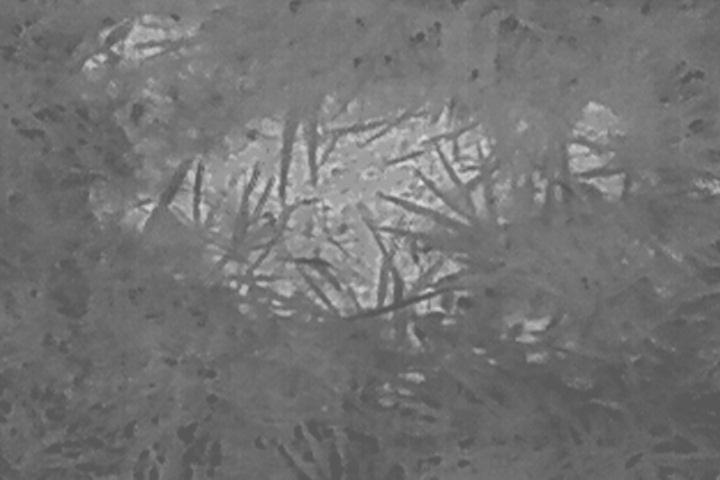landmine: (80, 4, 637, 367)
